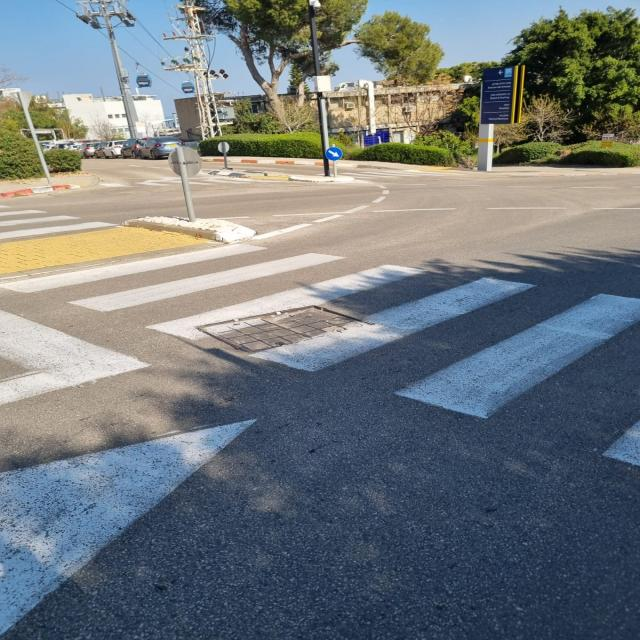medium_pothole: (193, 300, 372, 354)
